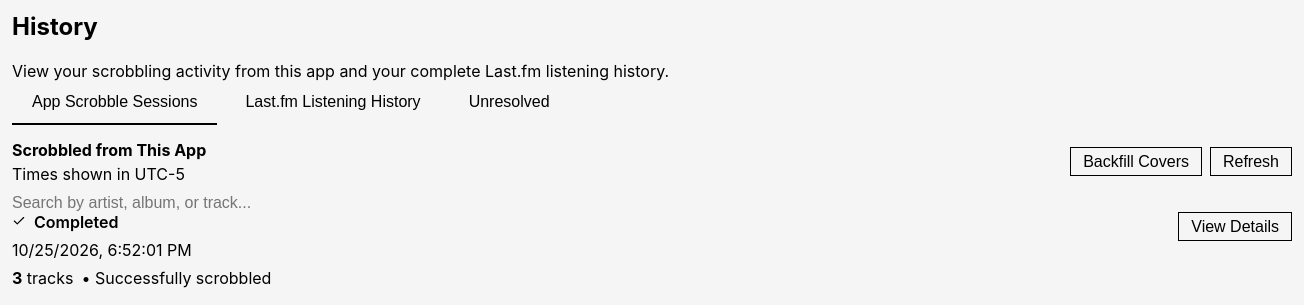
Test: HistoryPage › Refresh Functionality › shows refreshing state when refresh is in progress
Check: the button "Refresh" is shown, box [1223,152,1279,171]
Click the button "Refresh" at (1251, 162), box [1210,147,1292,176]
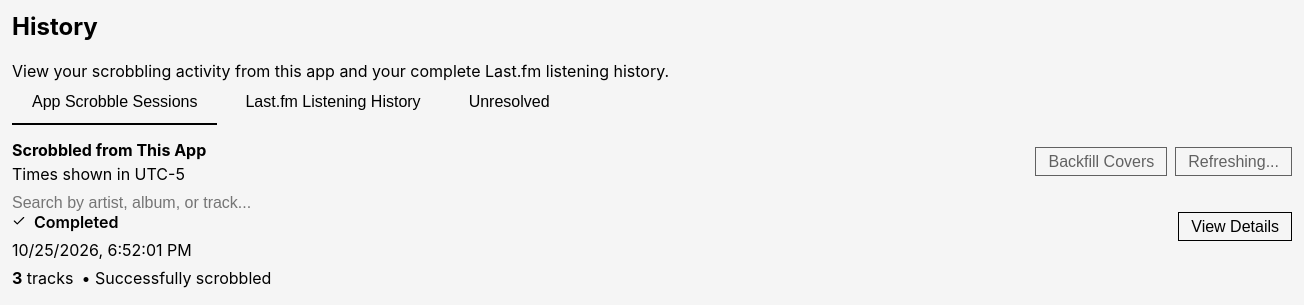
Check: the button "Refreshing..." is shown, box [1188,152,1279,171]
